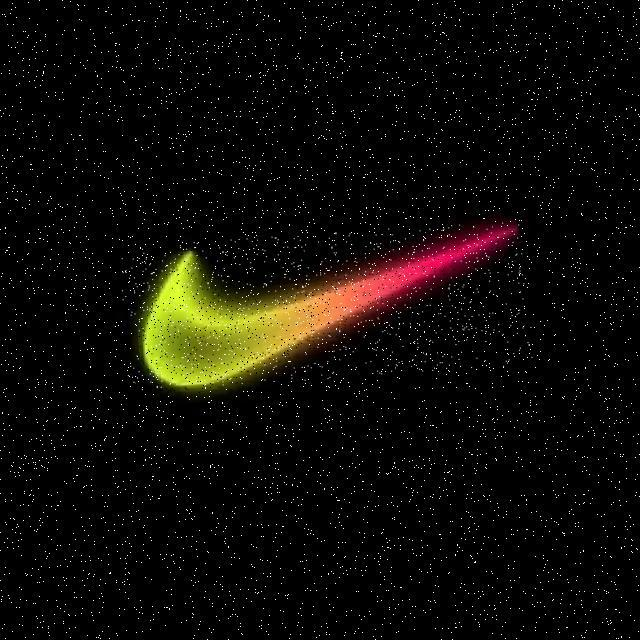Nike: (119, 219, 534, 393)
